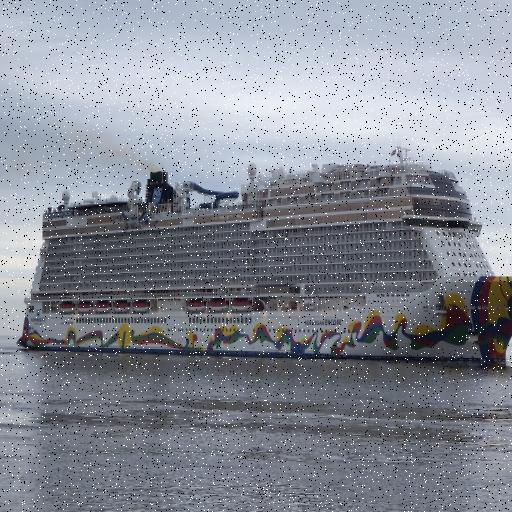cruises: (11, 140, 512, 374)
